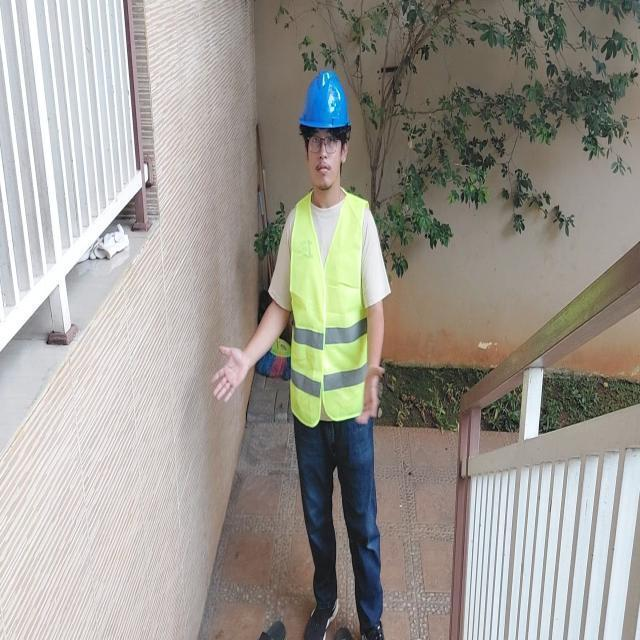Capacete: (299, 70, 349, 128)
Colete: (290, 193, 367, 426)
